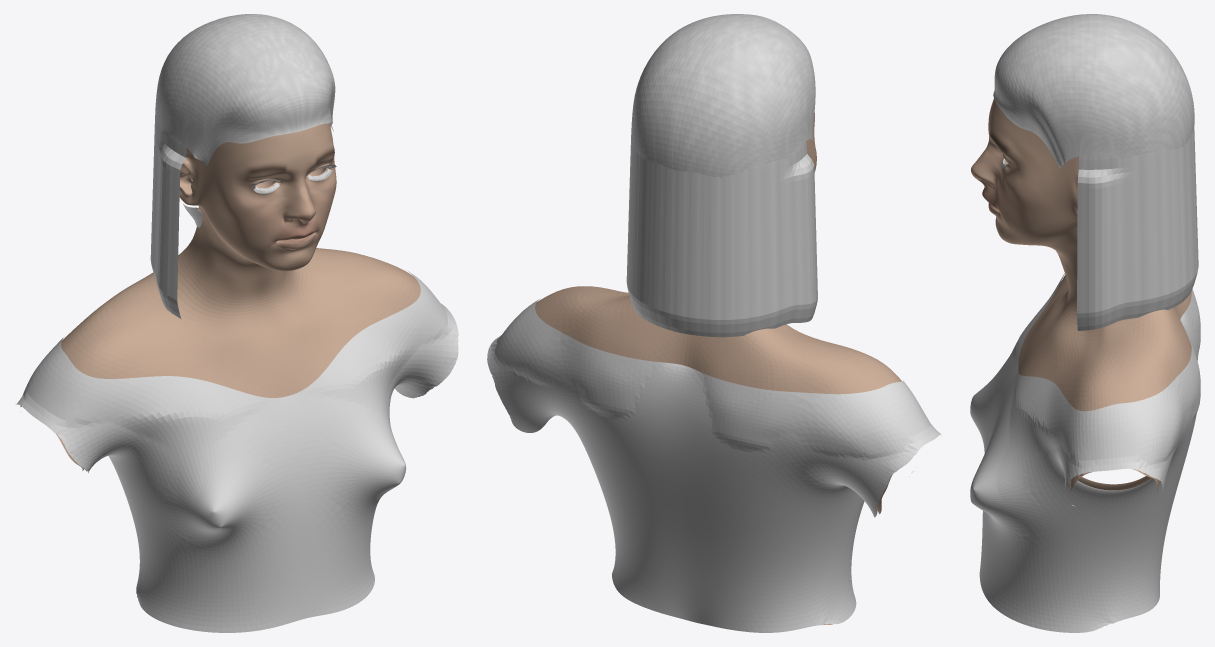
File: hd_f_light.glb
The picture shows the model from 3 angles, left to right: view 1: azimuth 30°, elevation 25°; view 2: azimuth 150°, elevation 25°; view 3: azimuth 270°, elevation 25°; orthographic projection. The views are drawn at different scales.
Parts seen in each view (by area): view 1: top, skin, hair; view 2: top, hair, skin; view 3: top, hair, skin.
Part boxes in pixels (x1,y1,x2,y2): top: [15, 270, 458, 632]; skin: [20, 123, 420, 470]; hair: [150, 14, 335, 318]; top: [487, 298, 941, 632]; hair: [626, 14, 817, 337]; skin: [535, 113, 901, 624]; top: [970, 273, 1200, 632]; hair: [993, 14, 1198, 330]; skin: [971, 99, 1191, 494].
Size of the model in its own units: 0.4695 by 0.5987 by 0.2241.
